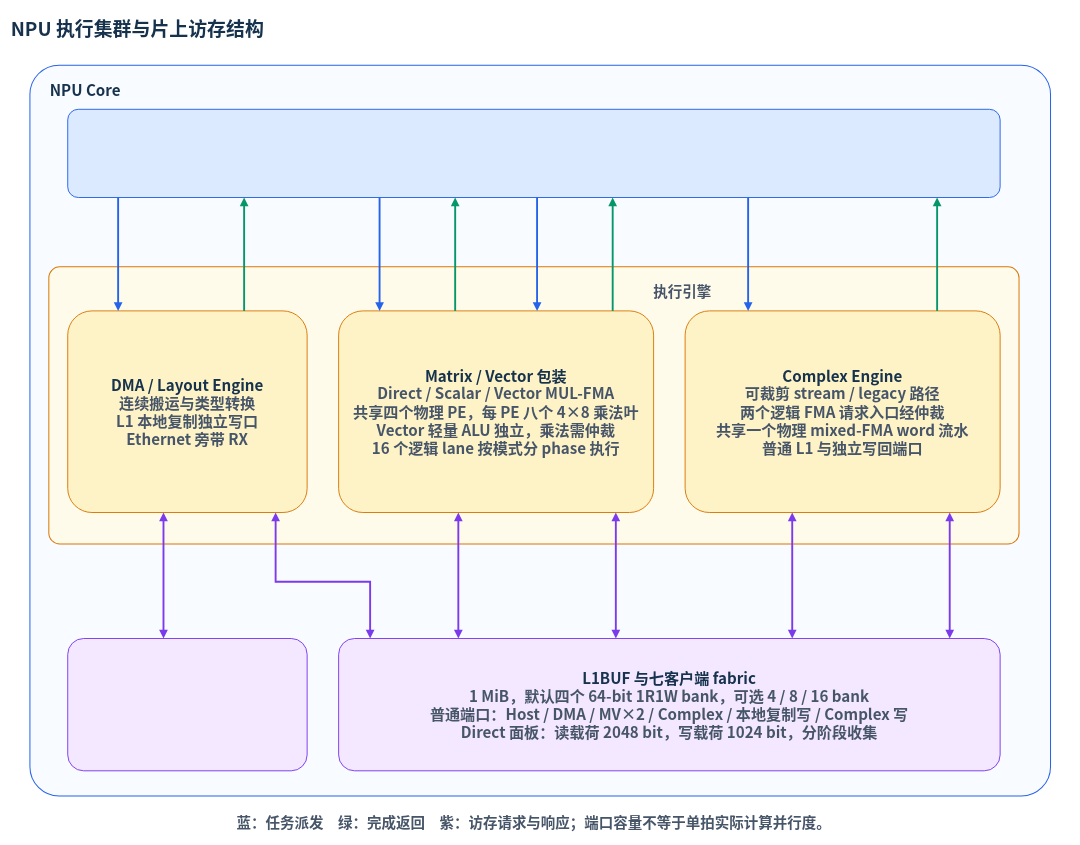
This 1080x845 diagram has some shape labels left out. The shapes that lost their labels are listed below. From the top down, each one's centre as x and y in pixels, then its label:
At [533,153]: "TaskScheduler 四类逻辑任务接口；事件依赖、任务 RAM、完成记录与 ACK".
At [187,704]: "MIF / AXI Master DMA、程序和描述符共同使用 默认八项读环，单写上下文 读写可重叠，返回有归属".
